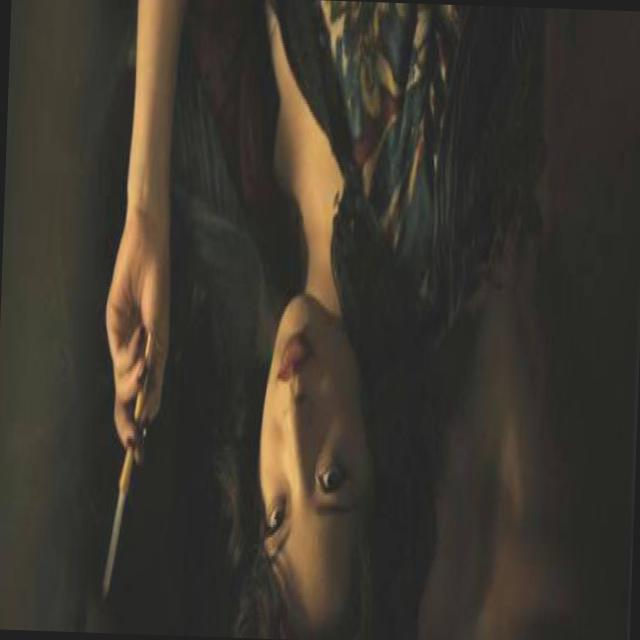cigarette: (84, 444, 154, 614)
